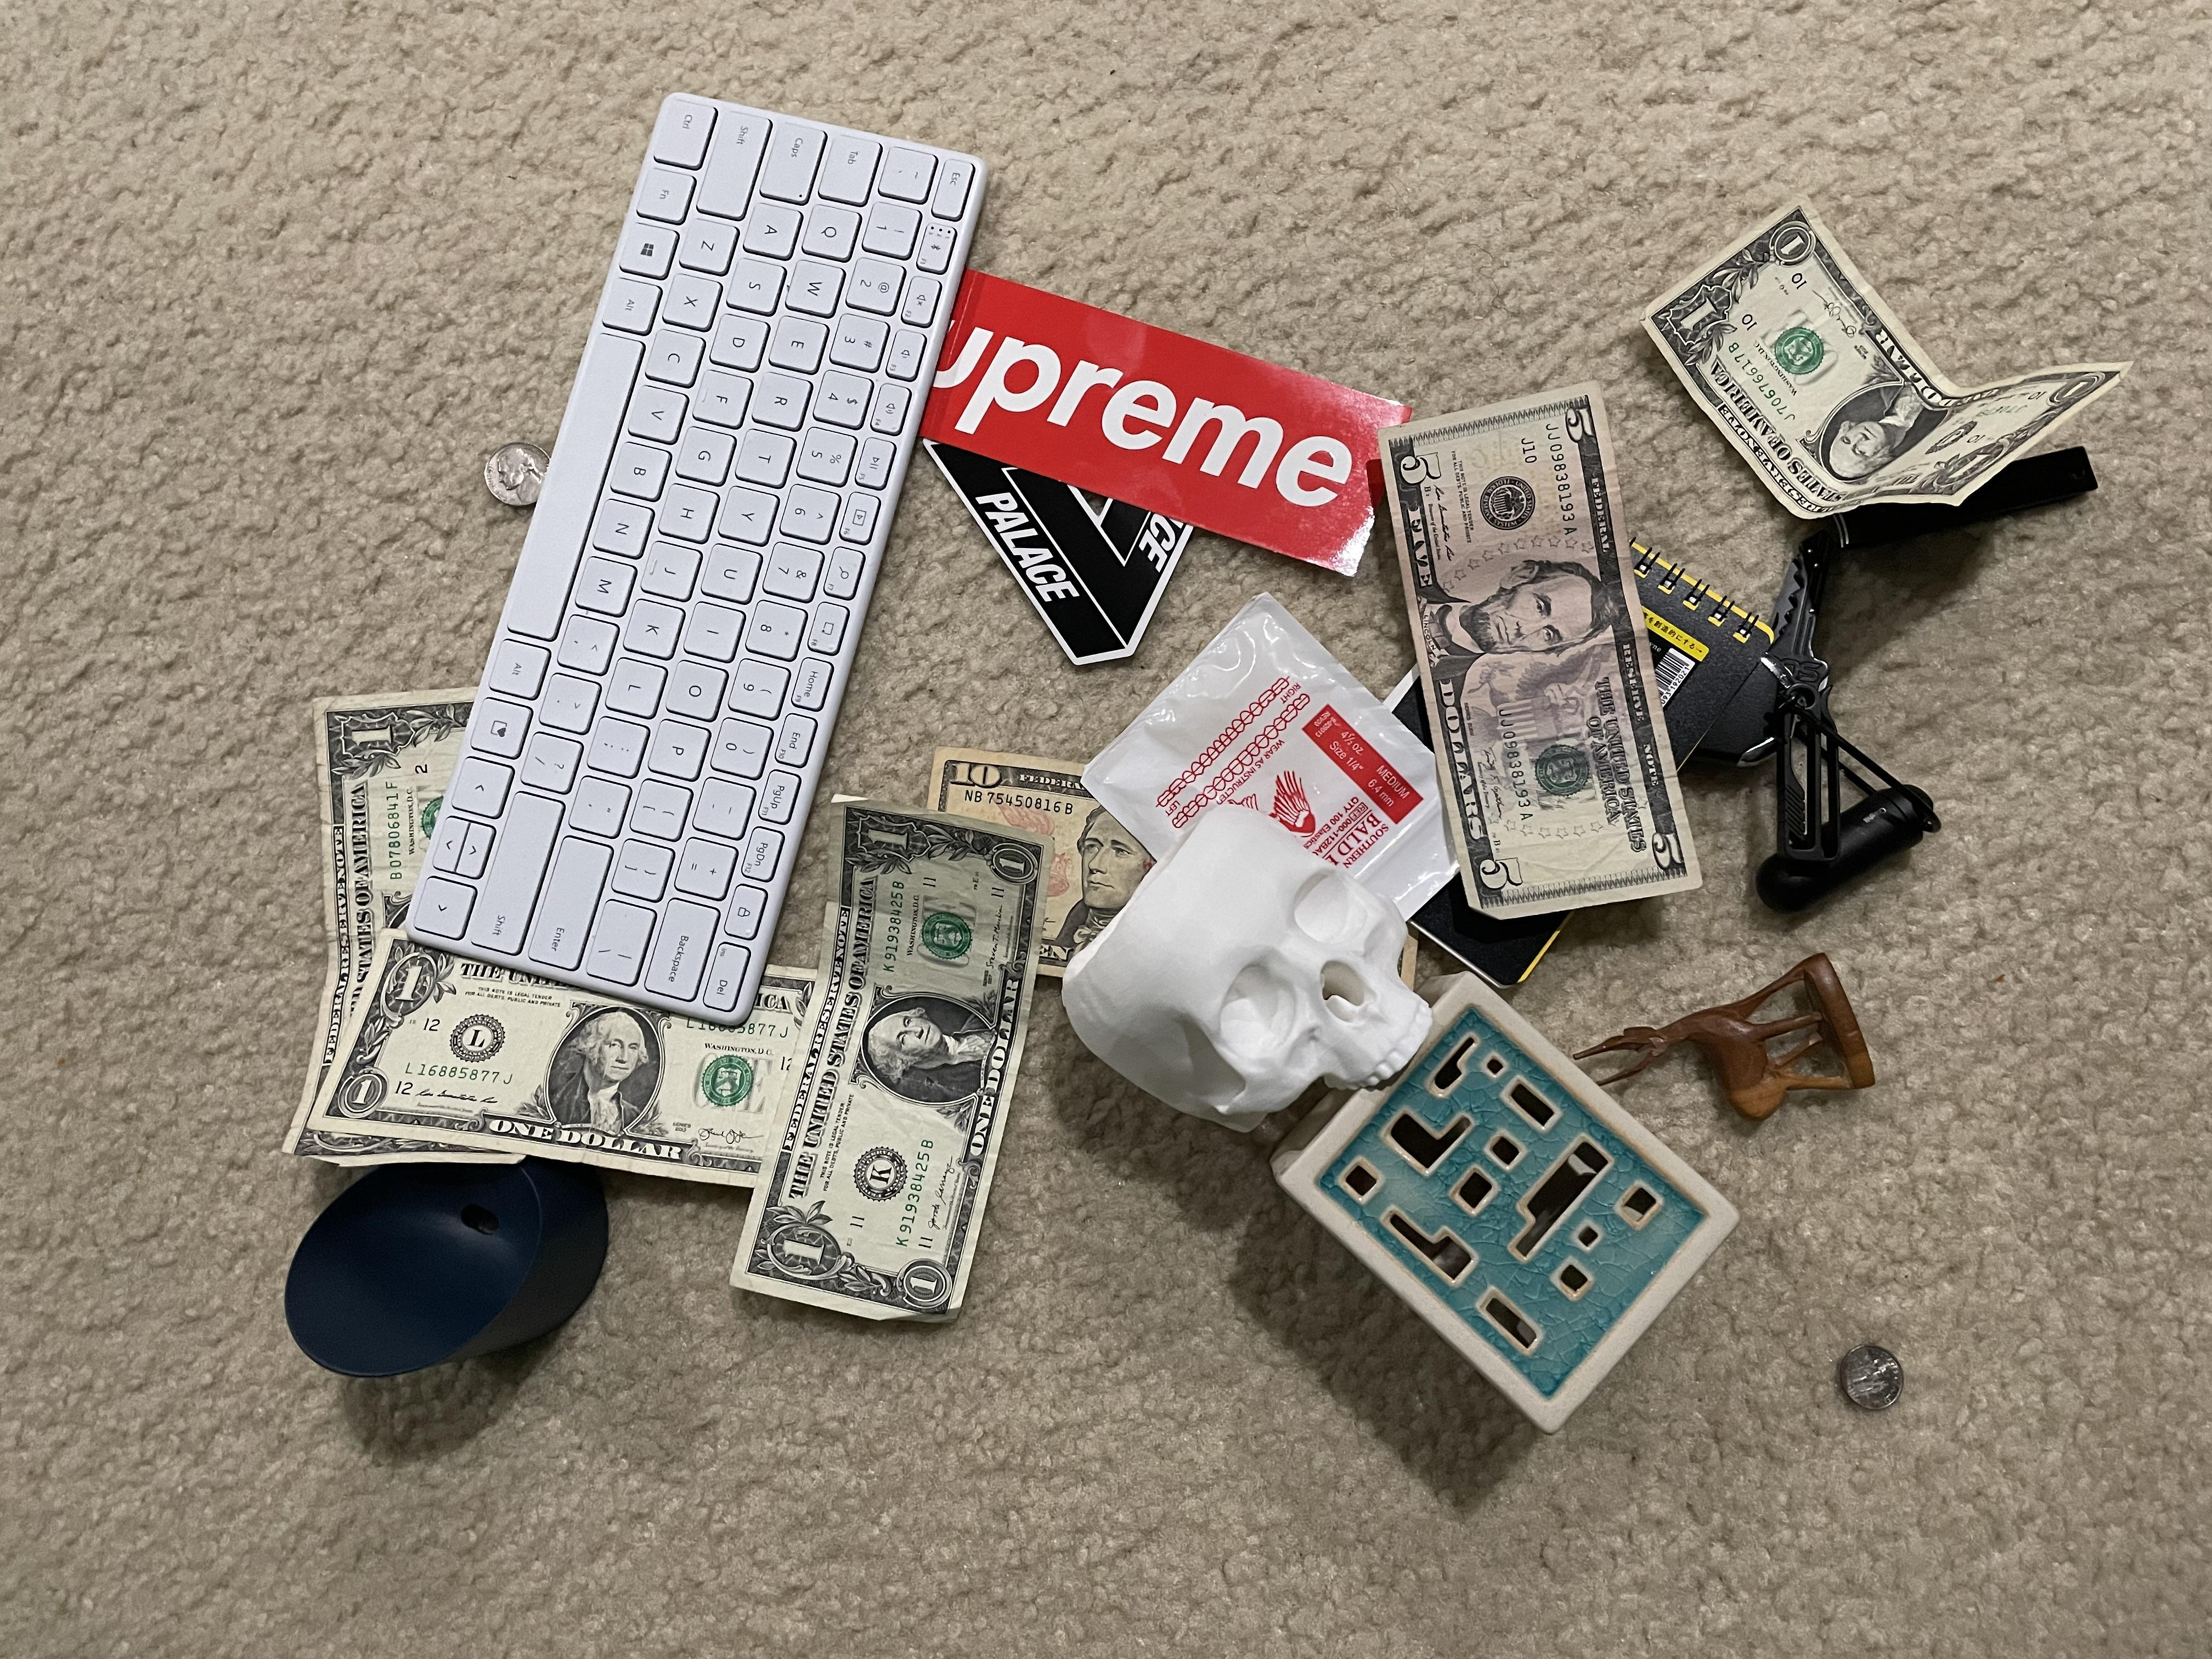Dime: (1838, 1335, 1909, 1413)
Nickel: (481, 436, 559, 505)
OneBill: (1378, 376, 1719, 932), (1632, 186, 2137, 525), (730, 789, 1031, 1330), (310, 927, 829, 1195), (280, 687, 549, 1182)
TenBill: (916, 746, 1191, 1002)
